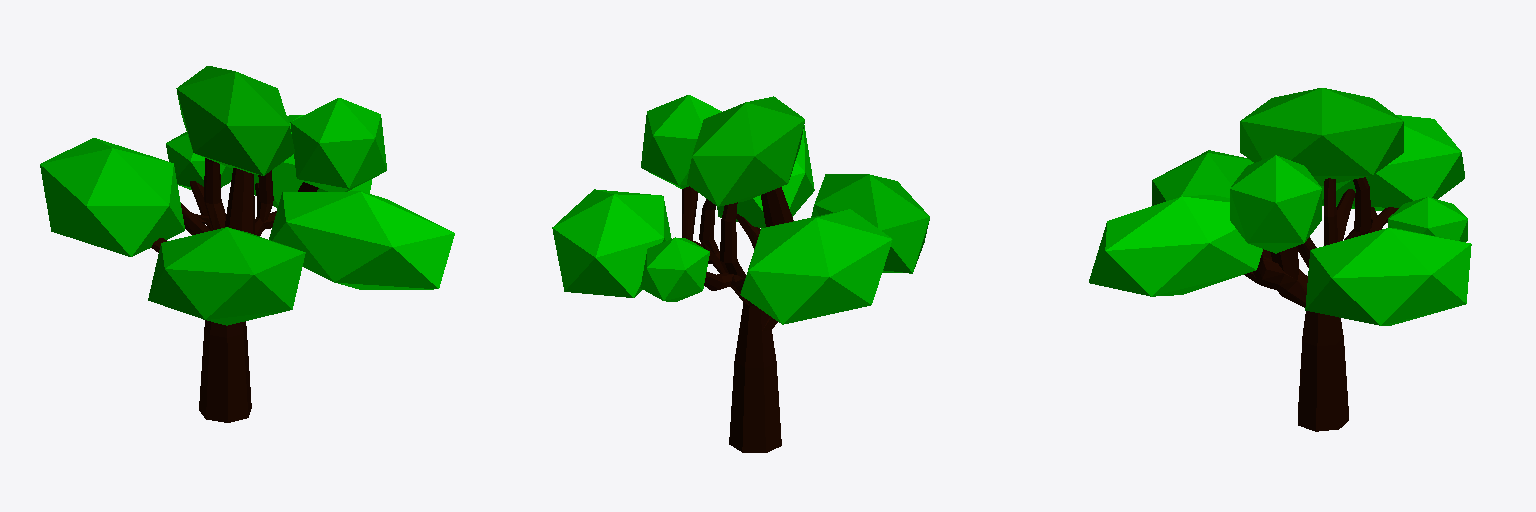
Rendered from tree.obj.
3 views of the same model, side by side, from view 1: azimuth 30°, elevation 25°; view 2: azimuth 150°, elevation 25°; view 3: azimuth 270°, elevation 25° (orthographic).
Parts seen in each view (by area): view 1: Cylinder.001; view 2: Cylinder.001; view 3: Cylinder.001.
Part boxes in pixels (x1,y1,x2,y2): Cylinder.001: (40,66,454,422); Cylinder.001: (552,95,929,452); Cylinder.001: (1089,88,1471,431).
Size of the model in its own units: 10.24 by 10.71 by 11.02.